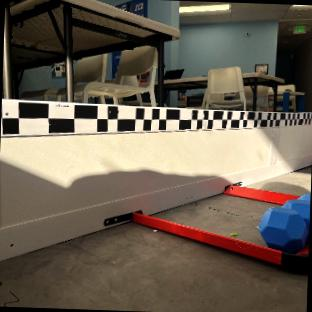Parking-R: (132, 212, 283, 265)
V5_BLUE: (259, 194, 310, 252)
